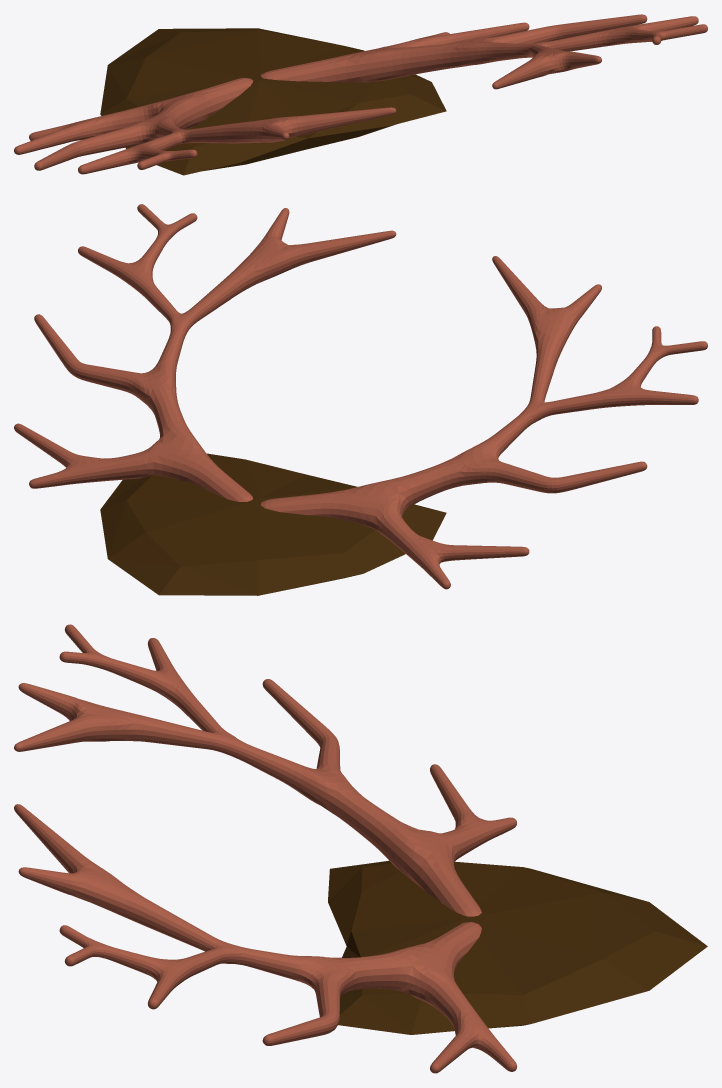
The model's file is Horn.fbx.
3 views of the same model, one above another, from view 1: azimuth 30°, elevation 25°; view 2: azimuth 150°, elevation 25°; view 3: azimuth 270°, elevation 25° (orthographic). The views are drawn at different scales.
Visible parts, largest first — view 1: Horn, Stand; view 2: Horn, Stand; view 3: Horn, Stand.
Boxes of the visible parts, x1=… form: Horn: x1=14, y1=14, x2=707, y2=174; Stand: x1=100, y1=28, x2=446, y2=175; Horn: x1=14, y1=204, x2=707, y2=589; Stand: x1=100, y1=453, x2=446, y2=595; Horn: x1=14, y1=624, x2=517, y2=1073; Stand: x1=328, y1=861, x2=707, y2=1034.
Bounding box in the file's own units: 1.85 × 1.49 × 0.4726.
